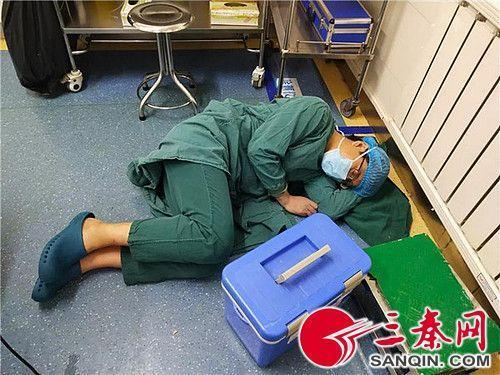Fall-Detected: (27, 84, 409, 321)
